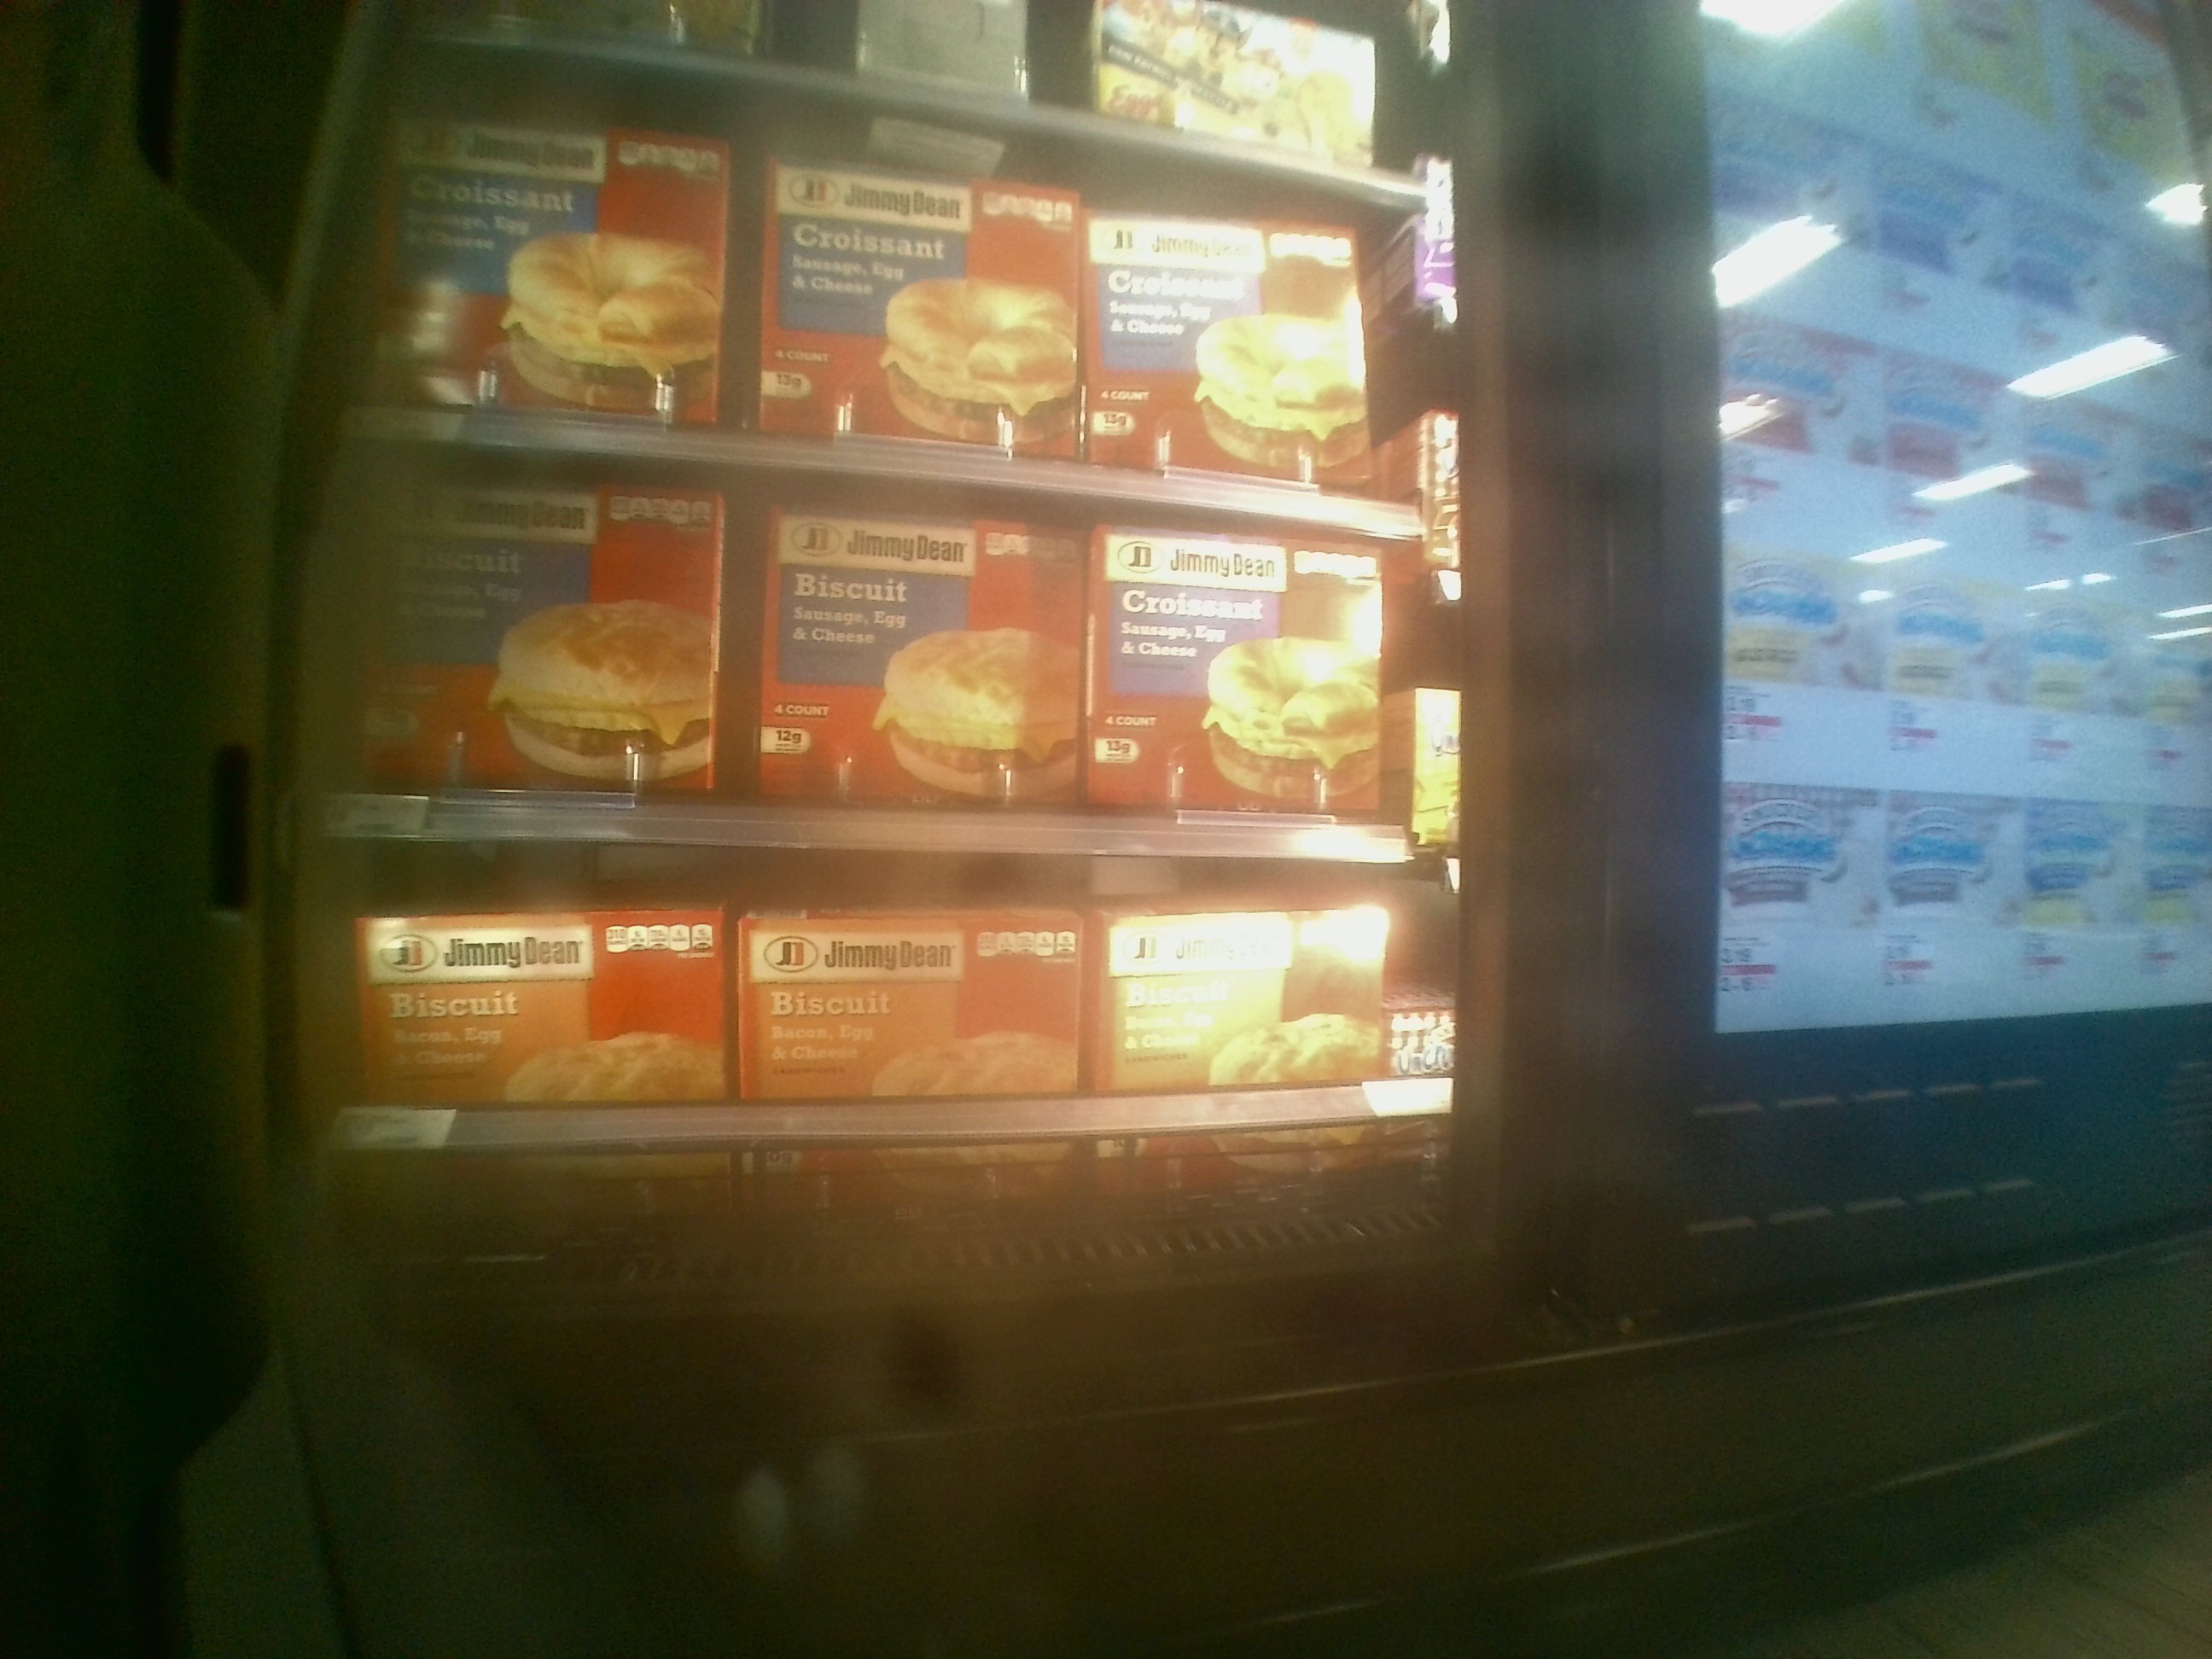shelf: (324, 430, 1451, 847), (326, 849, 1456, 1253)
